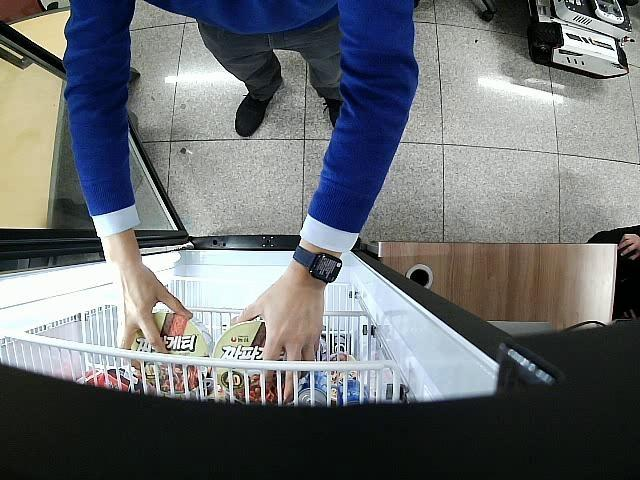03_chapagetti_L: (212, 321, 302, 406), (130, 314, 213, 400)
